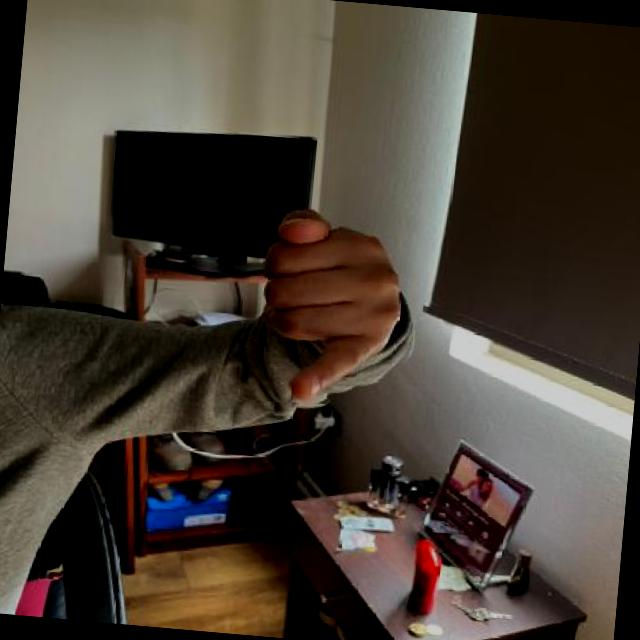Z: (238, 200, 424, 414)
